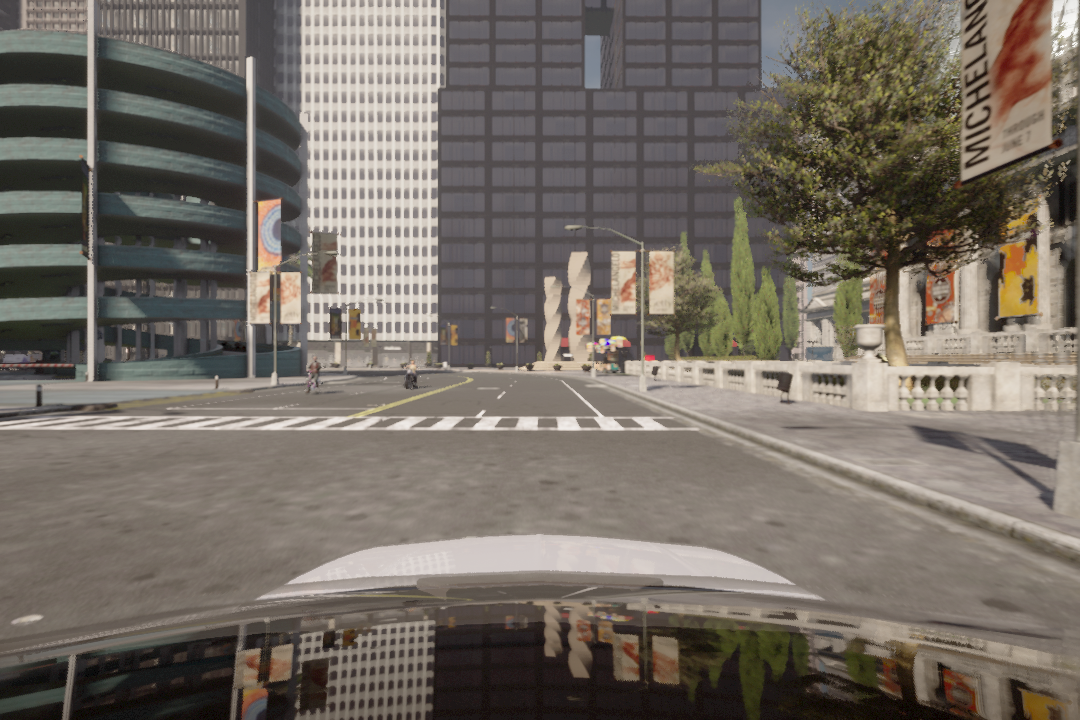walkside: (13, 416, 719, 436)
